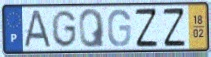A: (21, 9, 53, 49)
G: (50, 9, 78, 49), (106, 8, 132, 49)
Q: (77, 7, 106, 49)
Z: (134, 7, 160, 49), (162, 7, 187, 49)
